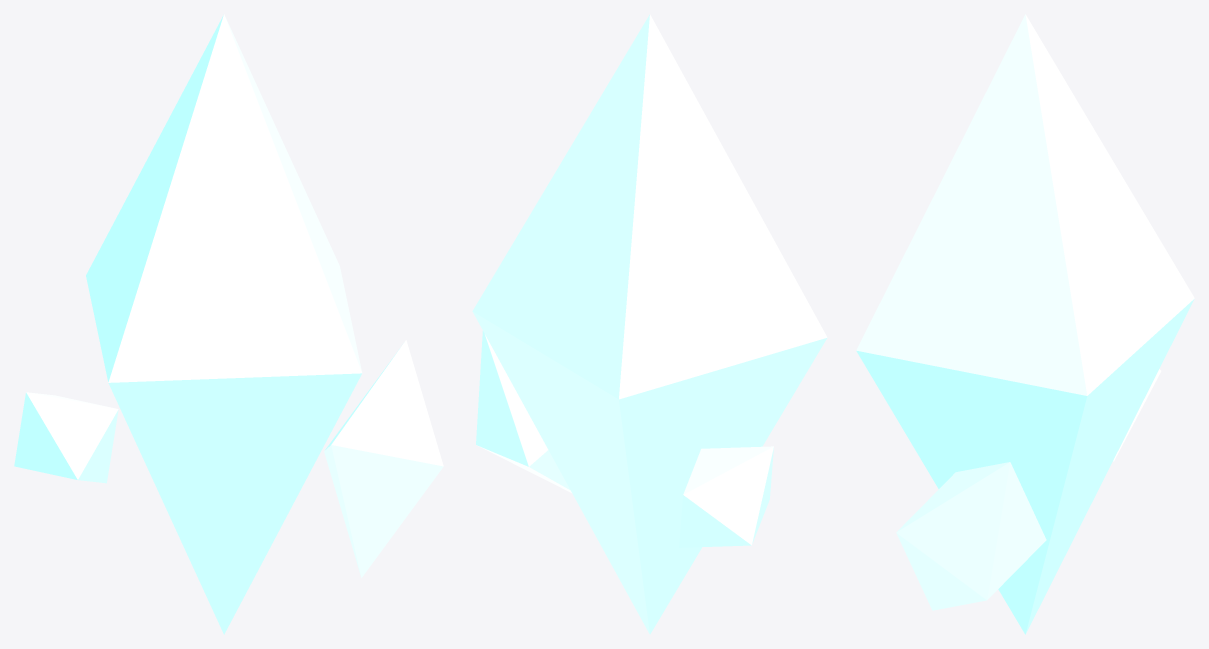
Rendered from crystal.glb.
3 renders of one model, left to right at view 1: azimuth 30°, elevation 25°; view 2: azimuth 150°, elevation 25°; view 3: azimuth 270°, elevation 25°, orthographic.
Parts seen in each view (by area): view 1: crystal_big, crystal_s1, crystal_s2; view 2: crystal_big, crystal_s2, crystal_s1; view 3: crystal_big, crystal_s1.
Boxes of the visible parts, x1,y1,x2,y2 form: crystal_big: (86, 14, 362, 634); crystal_s1: (324, 340, 443, 577); crystal_s2: (14, 392, 118, 483); crystal_big: (472, 14, 827, 634); crystal_s2: (679, 446, 773, 547); crystal_s1: (476, 331, 571, 492); crystal_big: (856, 14, 1194, 634); crystal_s1: (896, 462, 1046, 610).
Bounding box in the file's own units: 2.27 × 3.8 × 1.88.
